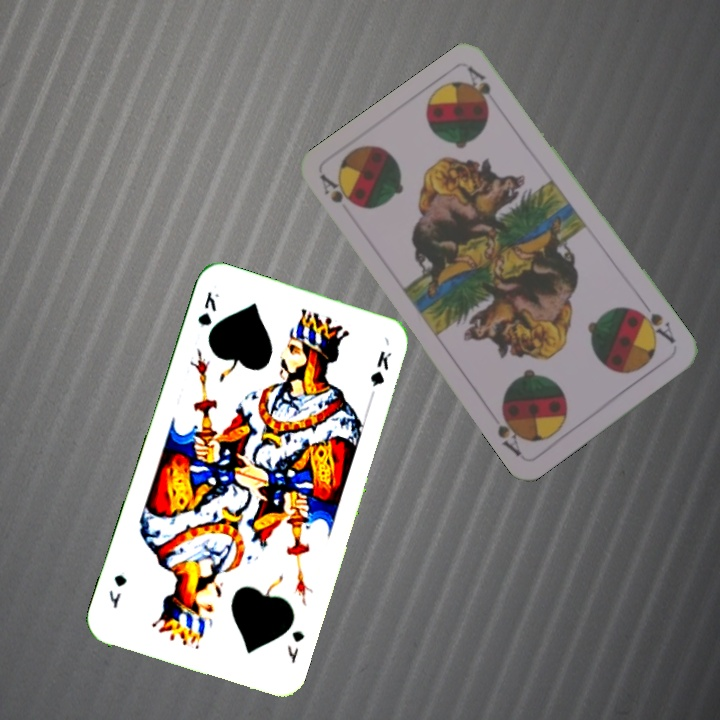GK: (193, 287, 222, 329), (283, 626, 307, 666)
SA: (631, 305, 678, 347), (316, 171, 361, 210)
